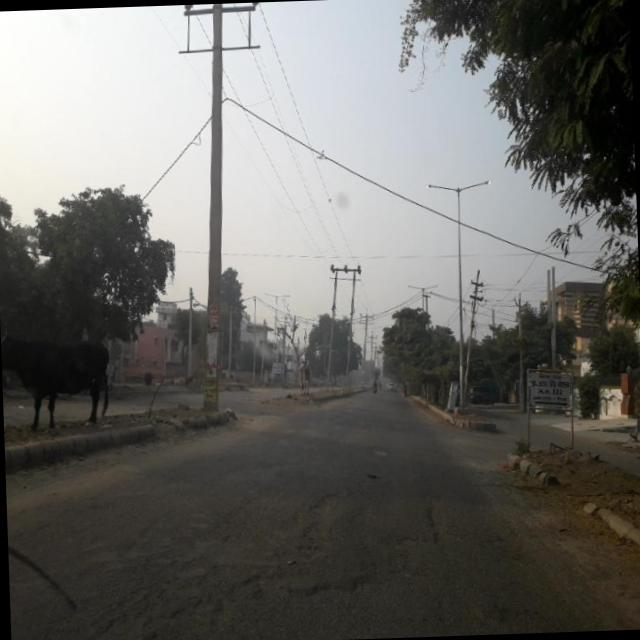pothole: (84, 547, 373, 640), (288, 458, 378, 548), (412, 468, 481, 542)
